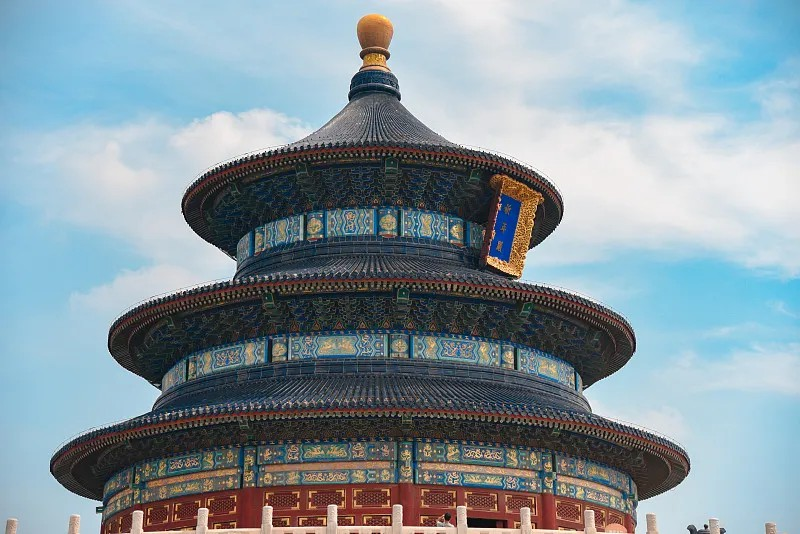Heaven: (47, 13, 693, 534)
